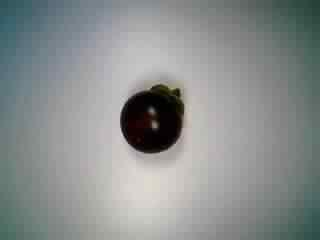mangosteen: (113, 76, 194, 159)
